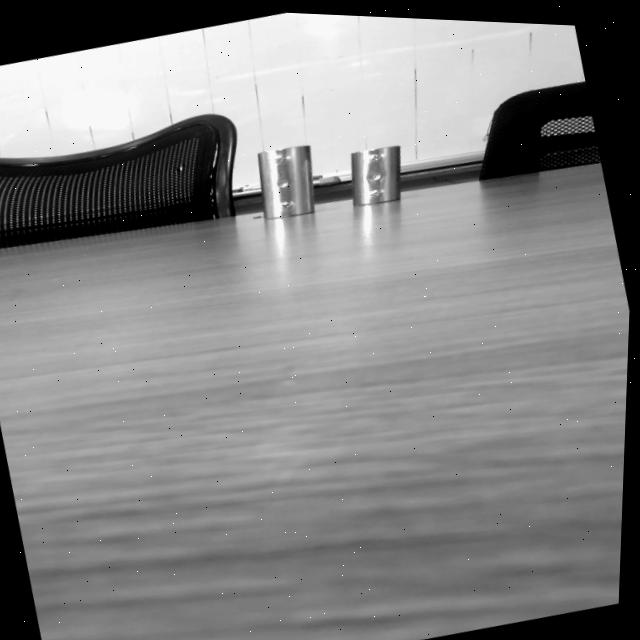Co_Lon: (257, 145, 315, 219)
Co_Nho: (349, 145, 403, 206)
